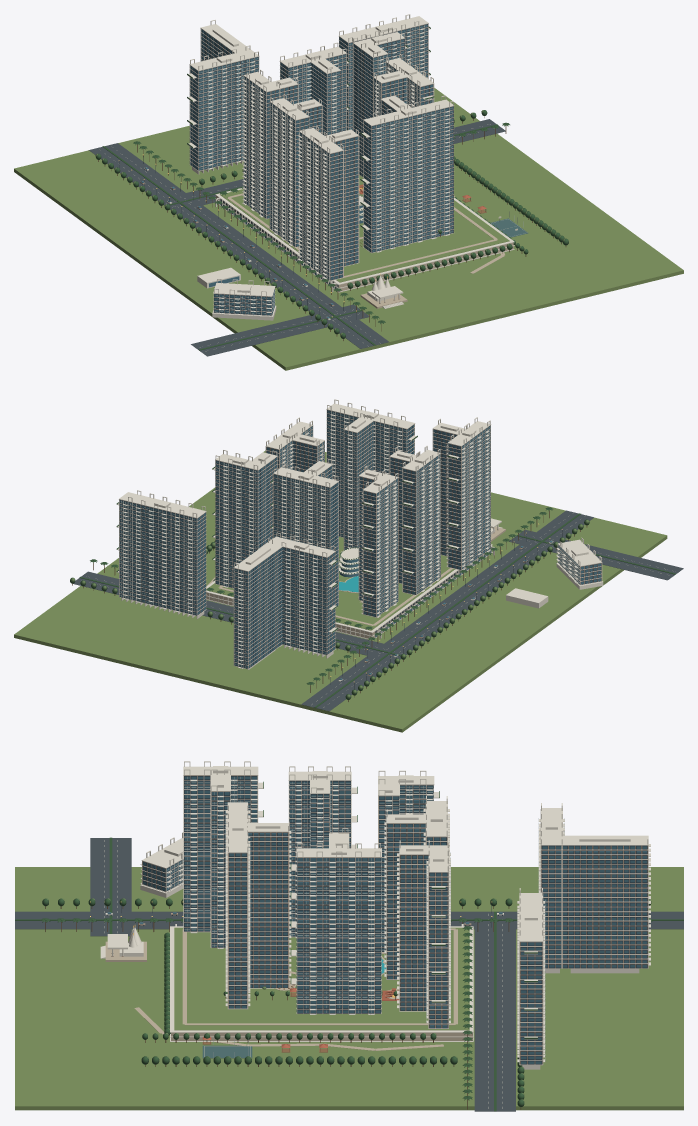
The model's file is venus-skky-city-web.glb.
The picture shows the model from 3 angles, top to bottom: view 1: azimuth 30°, elevation 25°; view 2: azimuth 150°, elevation 25°; view 3: azimuth 270°, elevation 25°; orthographic projection. The views are drawn at different scales.
Parts seen in each view (by area): view 1: lawn, ivory (×12), glass (×10), dark (×10), road, leaf, sand (×2), path, lightleaf, trunk; view 2: ivory (×11), lawn, glass (×10), dark (×9), road, sand (×6), leaf, path, lightleaf, trunk; view 3: lawn, ivory (×12), glass (×10), dark (×9), sand (×7), road, leaf, path, court, trunk, lightleaf.
Part boxes in pixels (<box>): lawn: <box>14,88,683,370</box>; ivory (×12): <box>187,14,514,320</box>; glass (×10): <box>190,24,453,314</box>; dark (×10): <box>190,24,453,315</box>; road: <box>89,119,505,356</box>; leaf: <box>96,110,568,350</box>; sand (×2): <box>330,102,453,280</box>; path: <box>216,186,513,291</box>; lightleaf: <box>95,110,564,335</box>; trunk: <box>98,116,566,340</box>; ivory (×11): <box>116,399,603,669</box>; lawn: <box>14,450,667,732</box>; glass (×10): <box>119,410,601,668</box>; dark (×9): <box>119,410,490,668</box>; road: <box>73,510,683,711</box>; sand (×6): <box>120,411,461,668</box>; leaf: <box>70,507,675,707</box>; path: <box>206,549,490,638</box>; lightleaf: <box>71,520,589,697</box>; trunk: <box>72,510,587,701</box>; lawn: <box>15,867,683,1110</box>; ivory (×12): <box>100,761,650,1069</box>; glass (×10): <box>143,776,646,1063</box>; dark (×9): <box>184,776,647,1064</box>; sand (×7): <box>184,775,647,1064</box>; road: <box>15,838,683,1111</box>; leaf: <box>15,837,683,1111</box>; path: <box>134,928,472,1050</box>; court: <box>202,1045,252,1058</box>; trunk: <box>45,906,521,1109</box>; lightleaf: <box>46,898,650,1101</box>.
Size of the model in its own units: 377 by 114 by 390.
